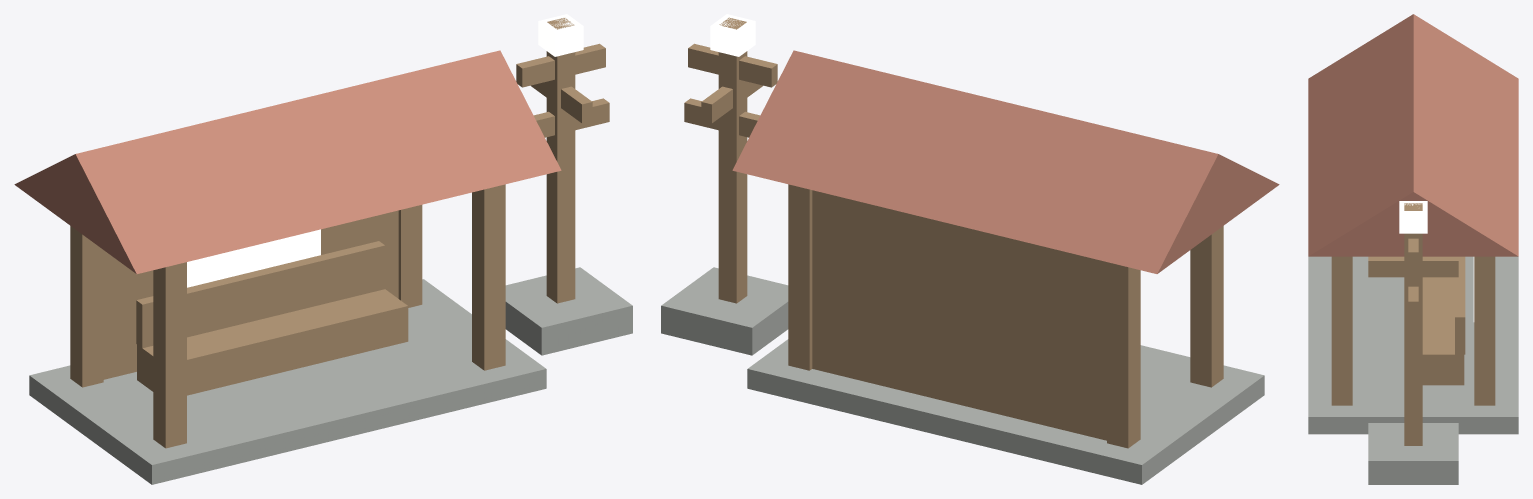
File: prop_12_dalat_wooden_bus_stop_and_wayfinding_kiosk.glb
3 renders of one model, left to right at view 1: azimuth 30°, elevation 25°; view 2: azimuth 150°, elevation 25°; view 3: azimuth 270°, elevation 25°, orthographic. The views are drawn at different scales.
Visible parts, largest first — view 1: prop_12_dalat_wooden_bus_stop_and_wayfinding_kiosk; view 2: prop_12_dalat_wooden_bus_stop_and_wayfinding_kiosk; view 3: prop_12_dalat_wooden_bus_stop_and_wayfinding_kiosk.
Part boxes in pixels (left/top/right/bottom): prop_12_dalat_wooden_bus_stop_and_wayfinding_kiosk: left=14, top=14, right=632, bottom=484; prop_12_dalat_wooden_bus_stop_and_wayfinding_kiosk: left=661, top=14, right=1279, bottom=484; prop_12_dalat_wooden_bus_stop_and_wayfinding_kiosk: left=1308, top=14, right=1518, bottom=484.
Size of the model in its own units: 7 by 3.8 by 2.8.
